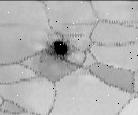good_void: (44, 37, 74, 61)
